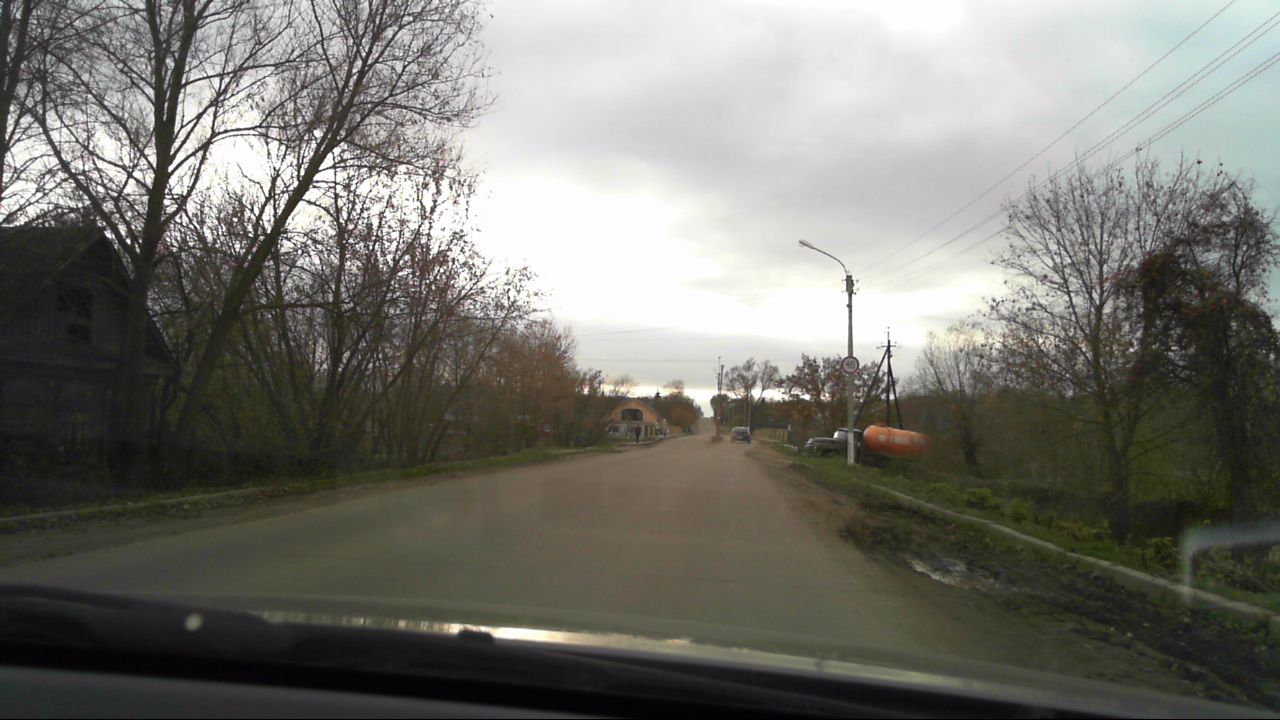speed_warning_40: (838, 354, 862, 376)
